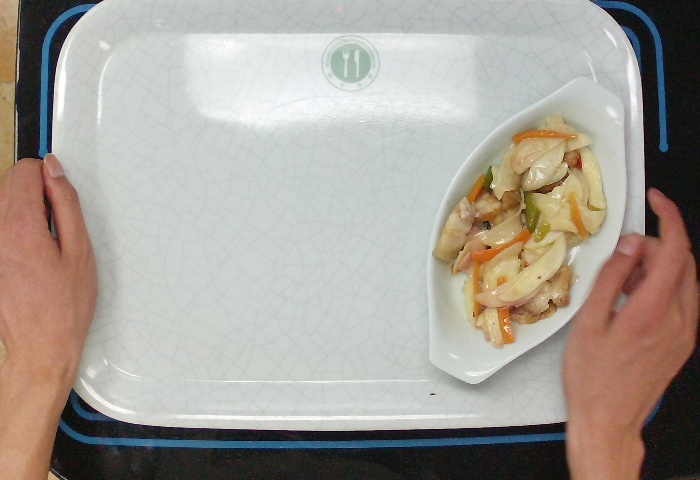JYsf-Yu_Pan: (419, 66, 632, 389)
